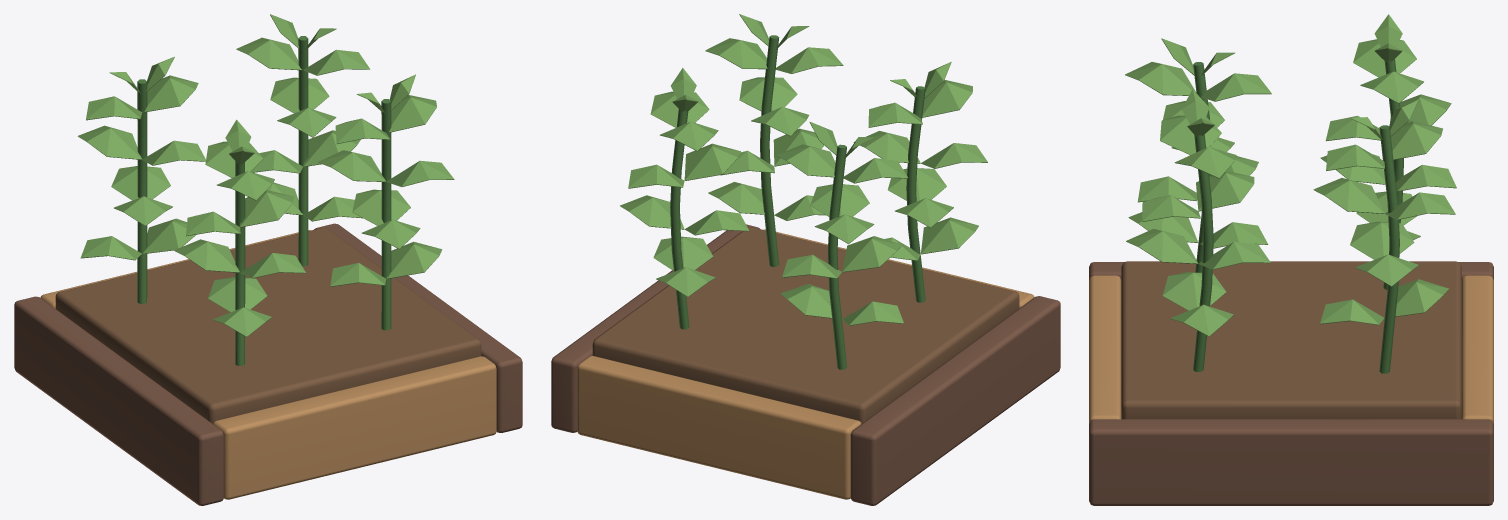
Rendered from garden.herb.melissa-new.glb.
3 views of the same model, side by side, from view 1: azimuth 30°, elevation 25°; view 2: azimuth 150°, elevation 25°; view 3: azimuth 270°, elevation 25° (orthographic). The views are drawn at different scales.
Parts seen in each view (by area): view 1: Cedar raised bed rail; view 2: Cedar raised bed rail; view 3: Cedar raised bed rail.
Part boxes in pixels (left/top/right/bottom): Cedar raised bed rail: left=14, top=14, right=522, bottom=505; Cedar raised bed rail: left=551, top=14, right=1060, bottom=505; Cedar raised bed rail: left=1089, top=14, right=1493, bottom=505.
Bounding box in the file's own units: 1 × 0.9698 × 1.
